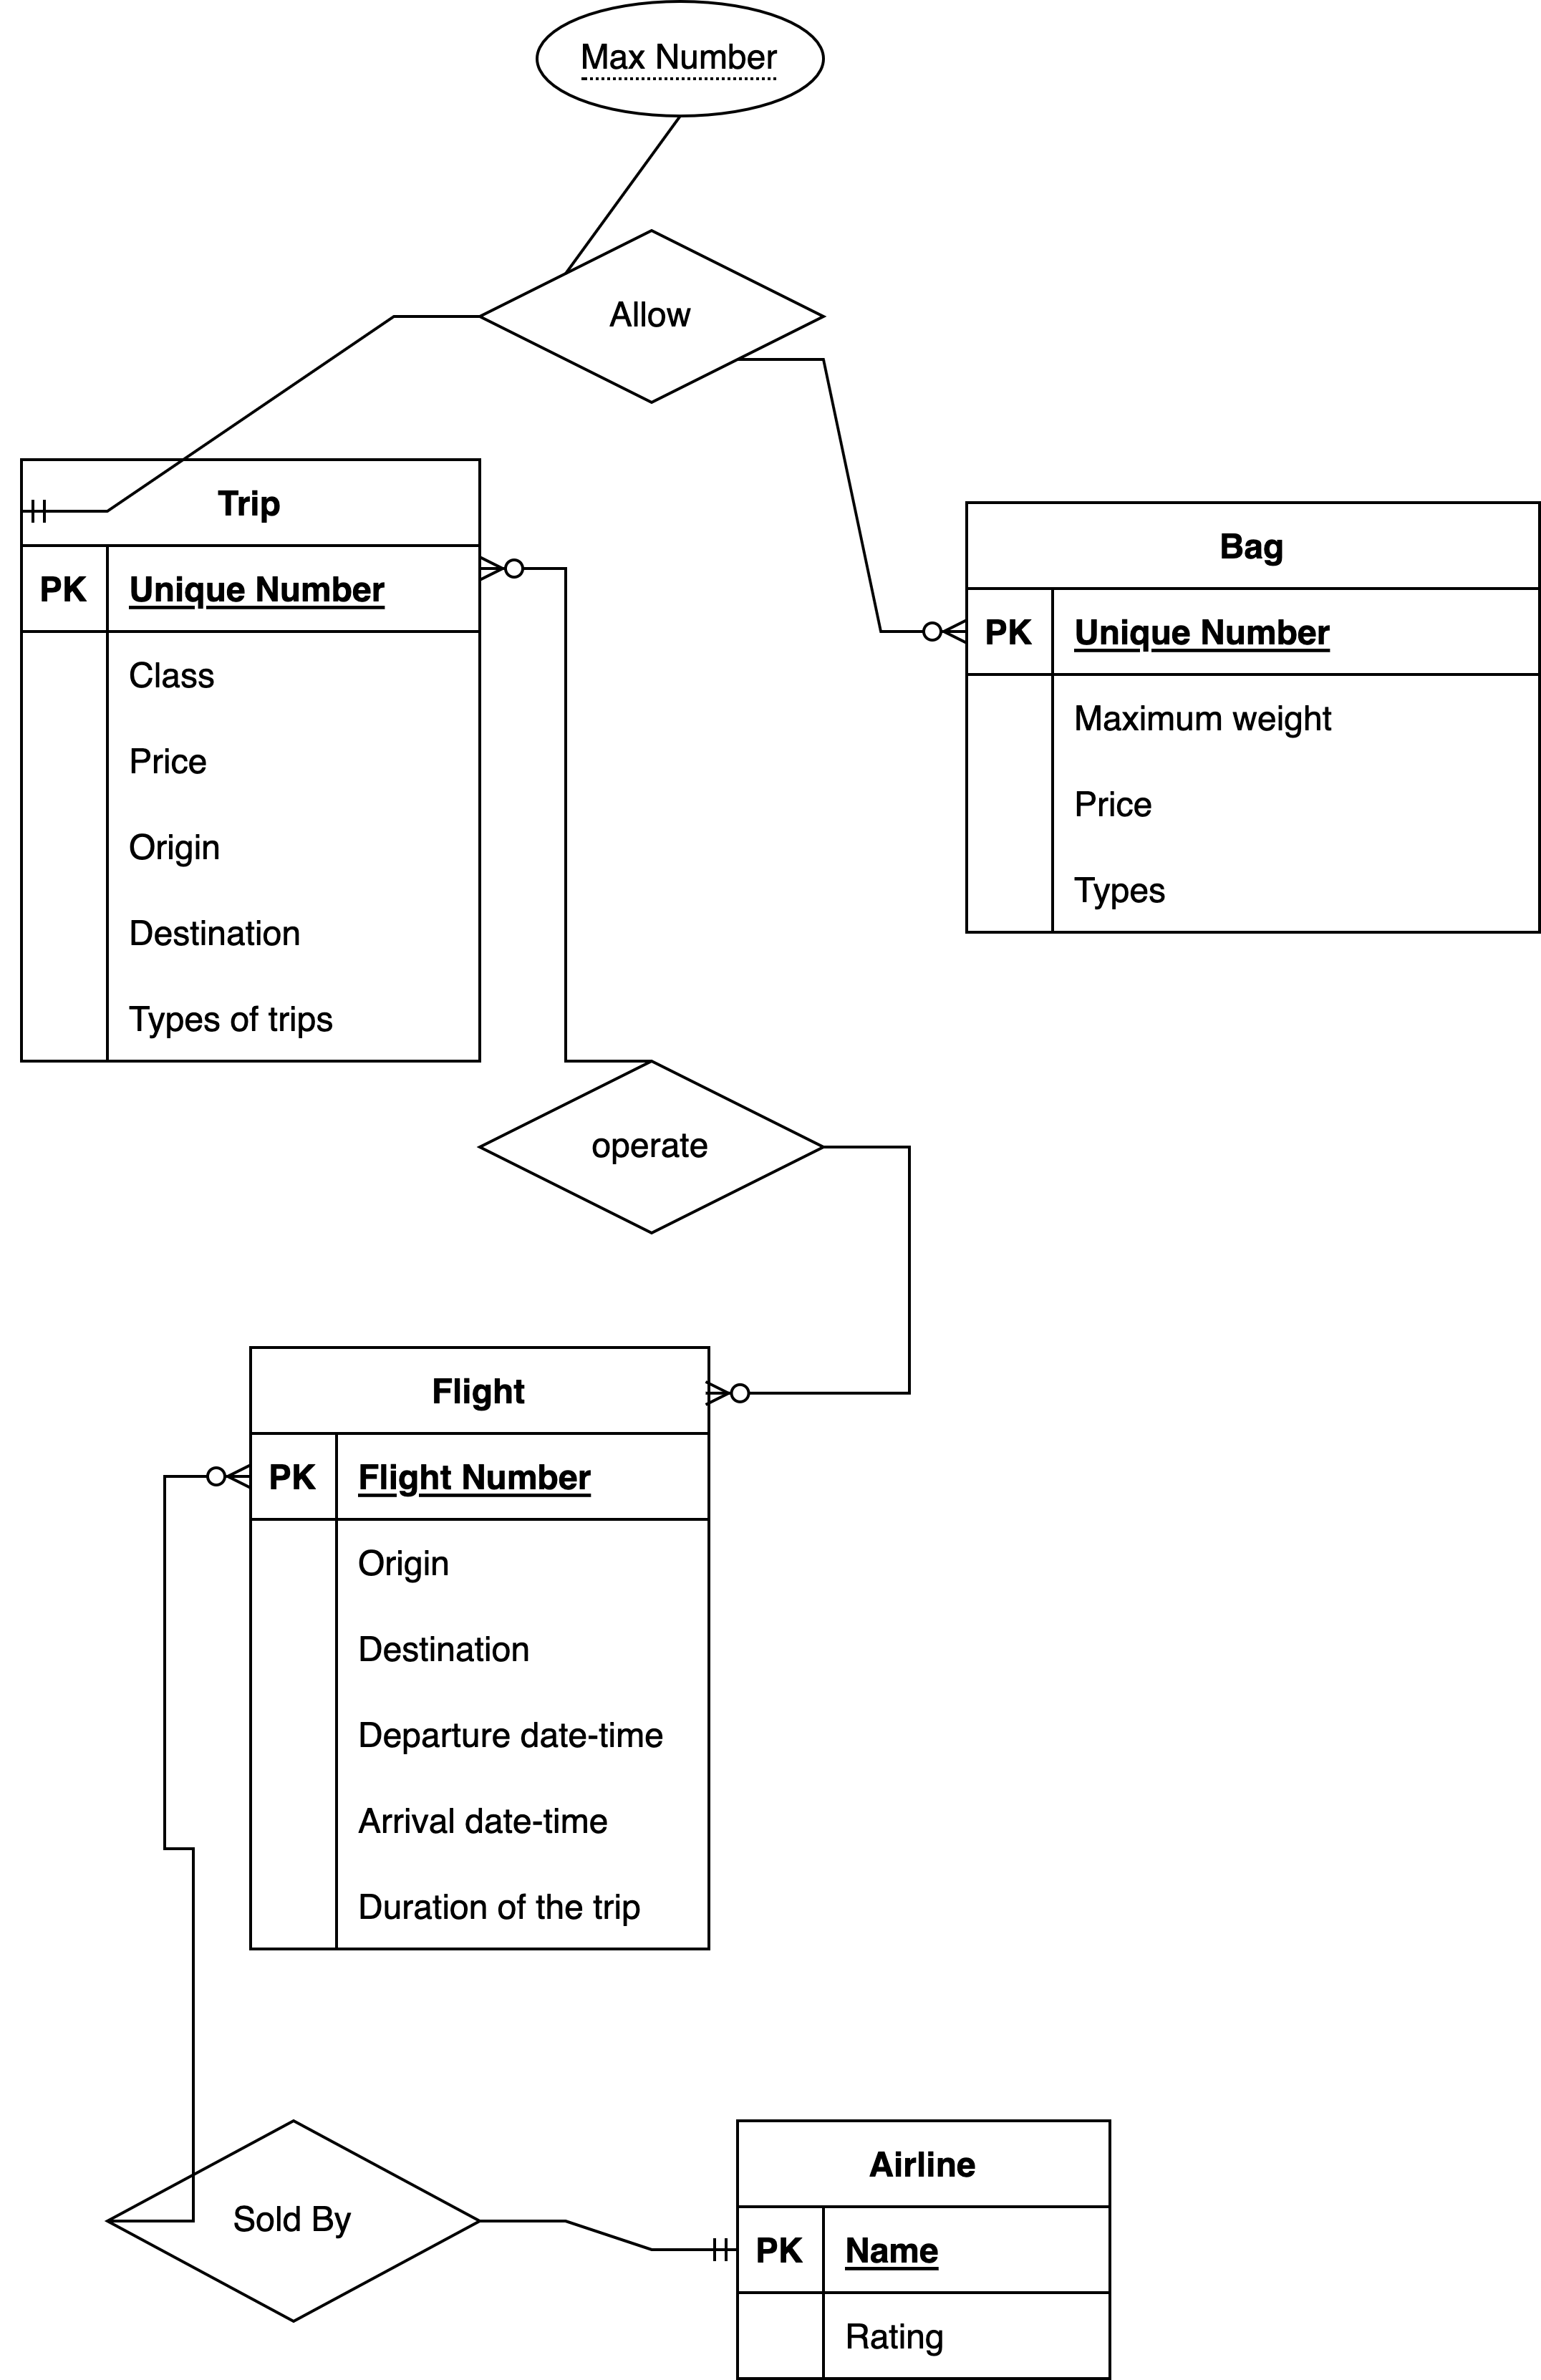entity: (241, 1339, 717, 1955), (16, 454, 475, 1063), (961, 501, 1541, 933), (734, 2116, 1107, 2380)
many: (869, 583, 967, 680), (706, 1344, 798, 1431), (479, 534, 571, 605), (163, 1447, 253, 1506)
one: (12, 475, 102, 536), (675, 2213, 738, 2281)
rel: (101, 2115, 475, 2331), (474, 1053, 824, 1246), (472, 234, 830, 404)
rel_attr: (534, 0, 830, 118)
